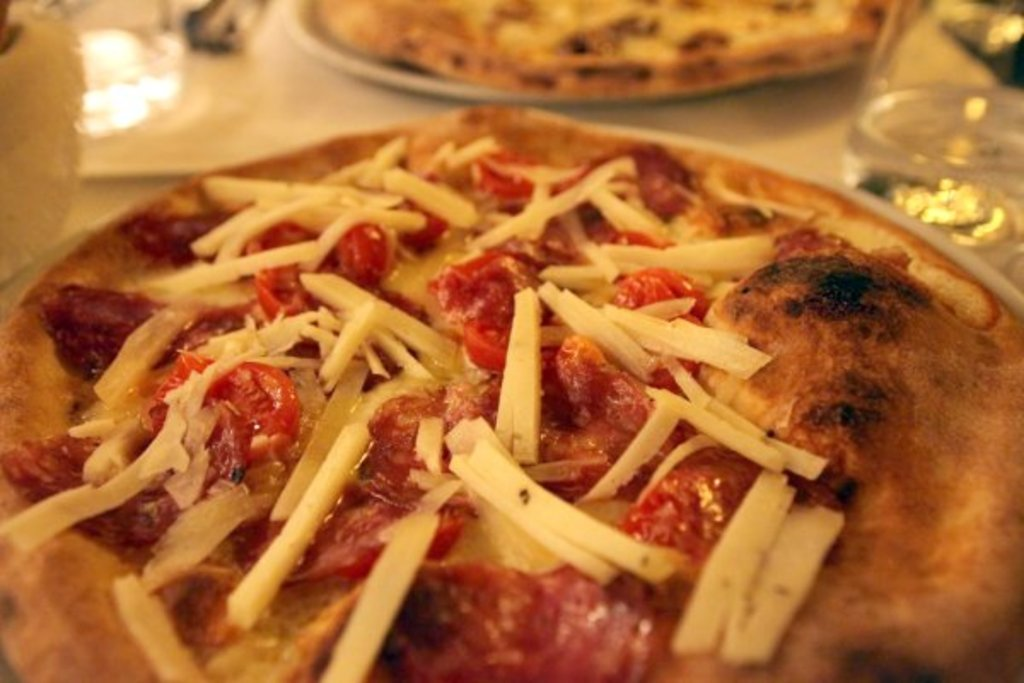Pizza: (17, 92, 994, 659), (324, 0, 885, 90)
